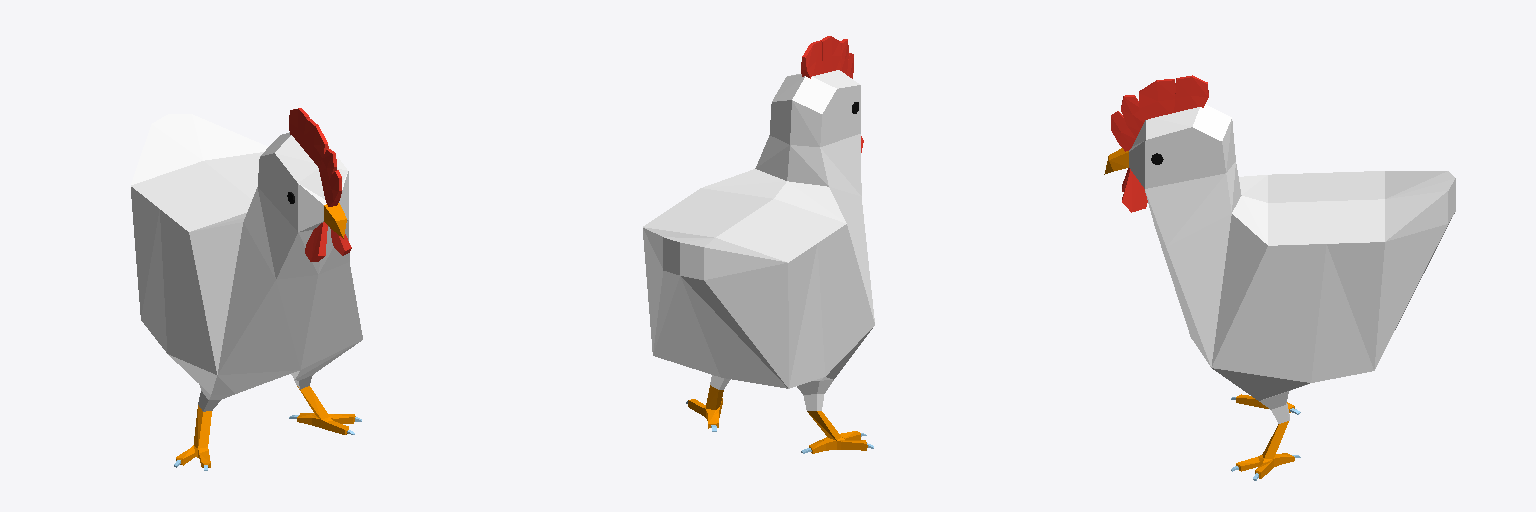
The picture shows the model from 3 angles: view 1: azimuth 30°, elevation 25°; view 2: azimuth 150°, elevation 25°; view 3: azimuth 270°, elevation 25°; orthographic projection.
Visible parts, largest first — view 1: Cube.035_Cube.034; view 2: Cube.035_Cube.034; view 3: Cube.035_Cube.034.
Part boxes in pixels (x1,y1,x2,y2): Cube.035_Cube.034: (131, 108, 362, 470); Cube.035_Cube.034: (643, 36, 874, 453); Cube.035_Cube.034: (1104, 75, 1455, 480).
Bounding box in the file's own units: 0.5172 × 0.9451 × 0.8366.
Materials: 5 (5 with a texture image).